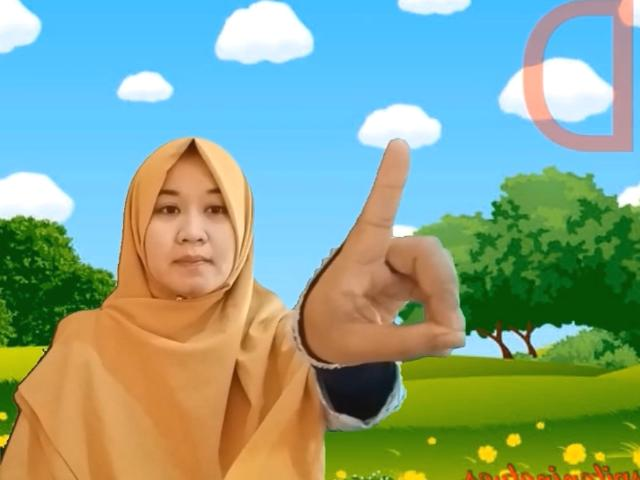D: (298, 139, 468, 363)
